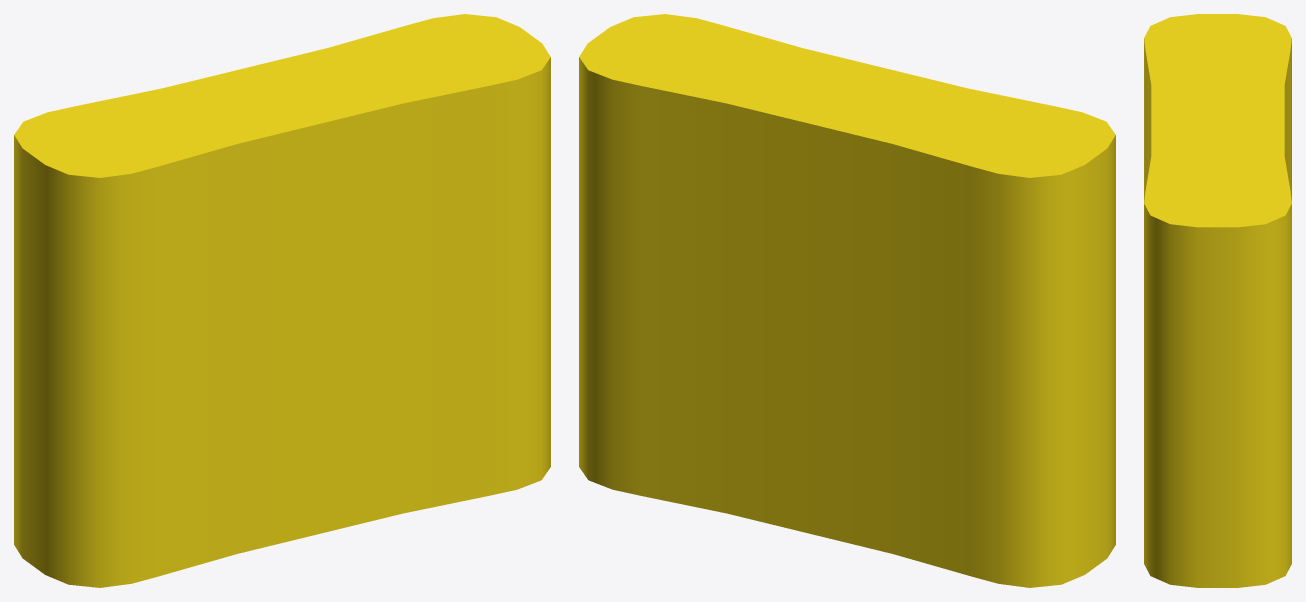
File: lock_base.glb
The picture shows the model from 3 angles, left to right: view 1: azimuth 30°, elevation 25°; view 2: azimuth 150°, elevation 25°; view 3: azimuth 270°, elevation 25°; orthographic projection. The views are drawn at different scales.
Visible parts, largest first — view 1: Padlock_LOD0; view 2: Padlock_LOD0; view 3: Padlock_LOD0.
Boxes of the visible parts, x1=… form: Padlock_LOD0: x1=14, y1=14, x2=550, y2=587; Padlock_LOD0: x1=579, y1=14, x2=1115, y2=587; Padlock_LOD0: x1=1144, y1=14, x2=1291, y2=587.
Bounding box in the file's own units: 0.1136 × 0.0895 × 0.0333.
